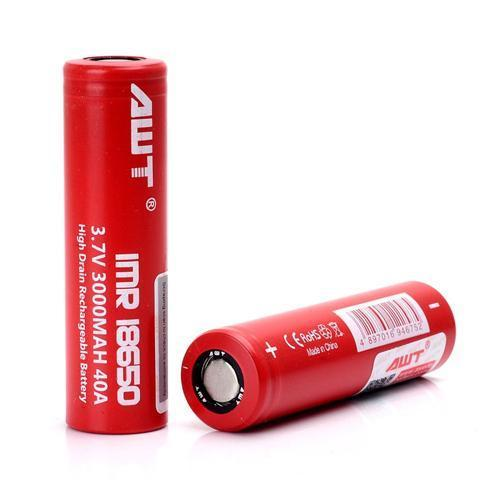Battery: (176, 275, 462, 439), (57, 50, 175, 438)
